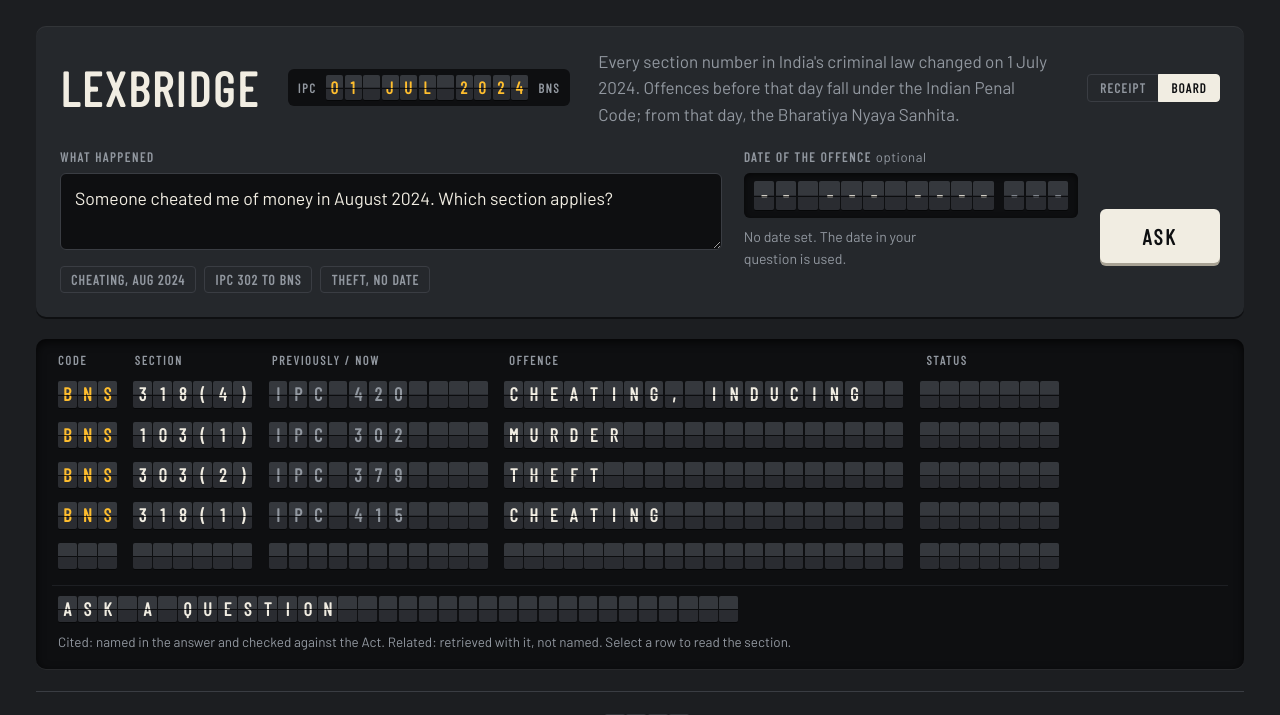
it: board view › says when a section cannot be opened
Expected: the button "Ask" is shown, [1100, 209, 1220, 263]
Click the button named "BNS 103(1), was IPC 302".
click(640, 435)  # box [52, 418, 1228, 452]
(page scrolled)
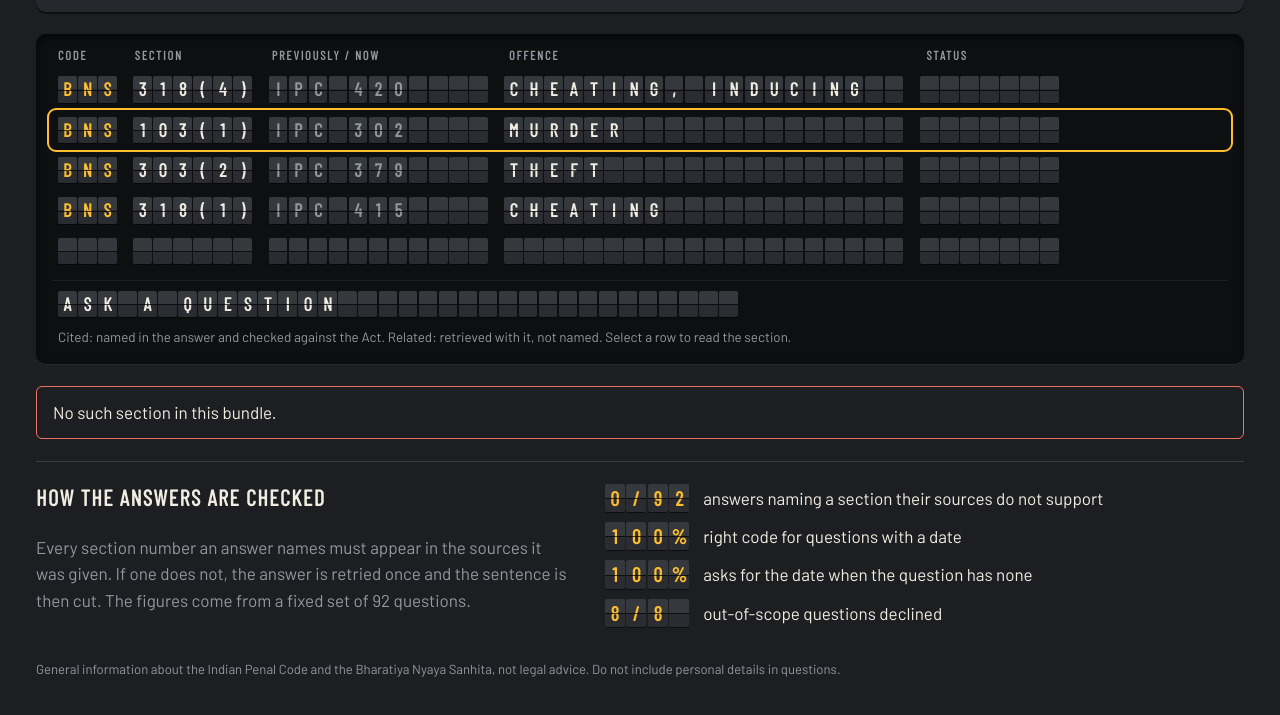
Now the message shows "No such section", box [53, 402, 276, 422]
